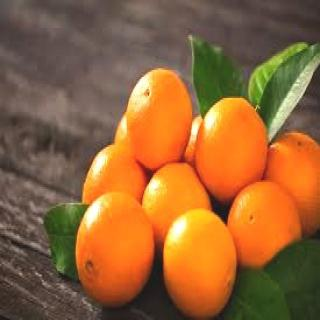orange: (66, 188, 156, 307), (192, 85, 268, 207), (160, 205, 234, 320), (120, 72, 192, 166)
